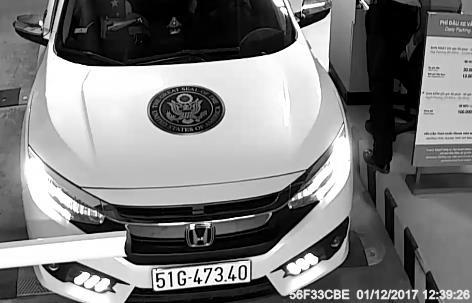License-plate: (144, 260, 259, 298)
